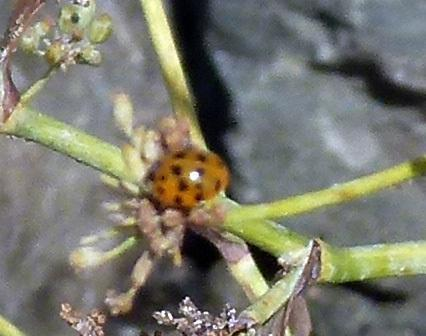ladybug: (139, 146, 234, 220)
